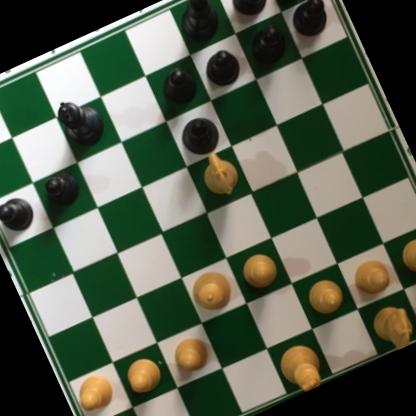black-bishop: (165, 0, 226, 51), (174, 110, 225, 162)
black-king: (48, 86, 109, 153)
black-knight: (220, 0, 276, 23)
black-pawn: (242, 20, 294, 72), (285, 0, 337, 46), (198, 44, 246, 93), (38, 167, 85, 216), (156, 63, 203, 111), (0, 191, 40, 240)
black-rook: (256, 0, 325, 8)
white-bishop: (0, 92, 5, 157)
white-king: (270, 336, 329, 399)
white-knight: (364, 296, 416, 357), (190, 142, 242, 200)
white-pawn: (68, 366, 121, 416), (166, 329, 217, 379), (299, 271, 350, 321), (346, 253, 396, 304), (119, 350, 169, 400), (236, 247, 285, 296), (393, 231, 416, 283)
white-queen: (183, 262, 238, 318)
white-rook: (405, 267, 416, 333), (82, 412, 147, 416)
